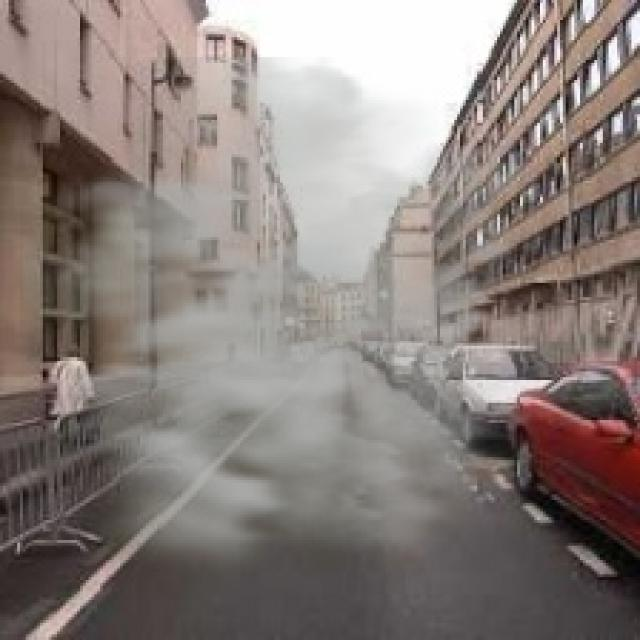smoke: (20, 57, 583, 600)
